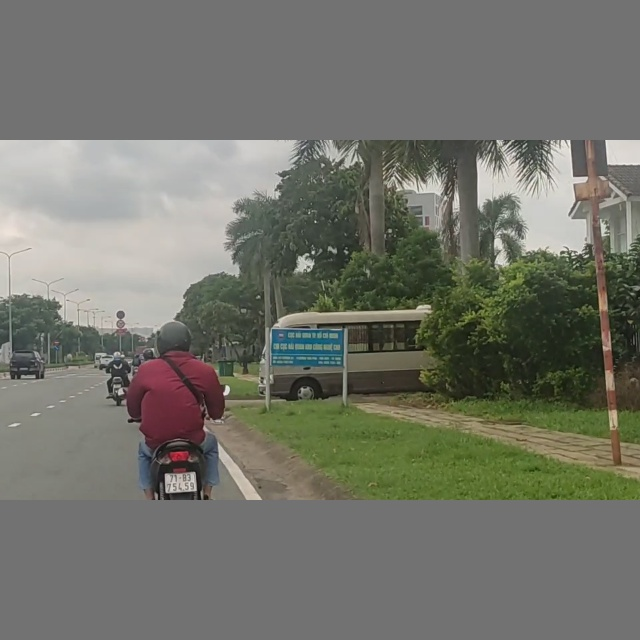P.102: (53, 339, 60, 345)
P.111: (117, 320, 125, 329)
P.130: (116, 311, 125, 319)
R.302a: (53, 345, 60, 351)
